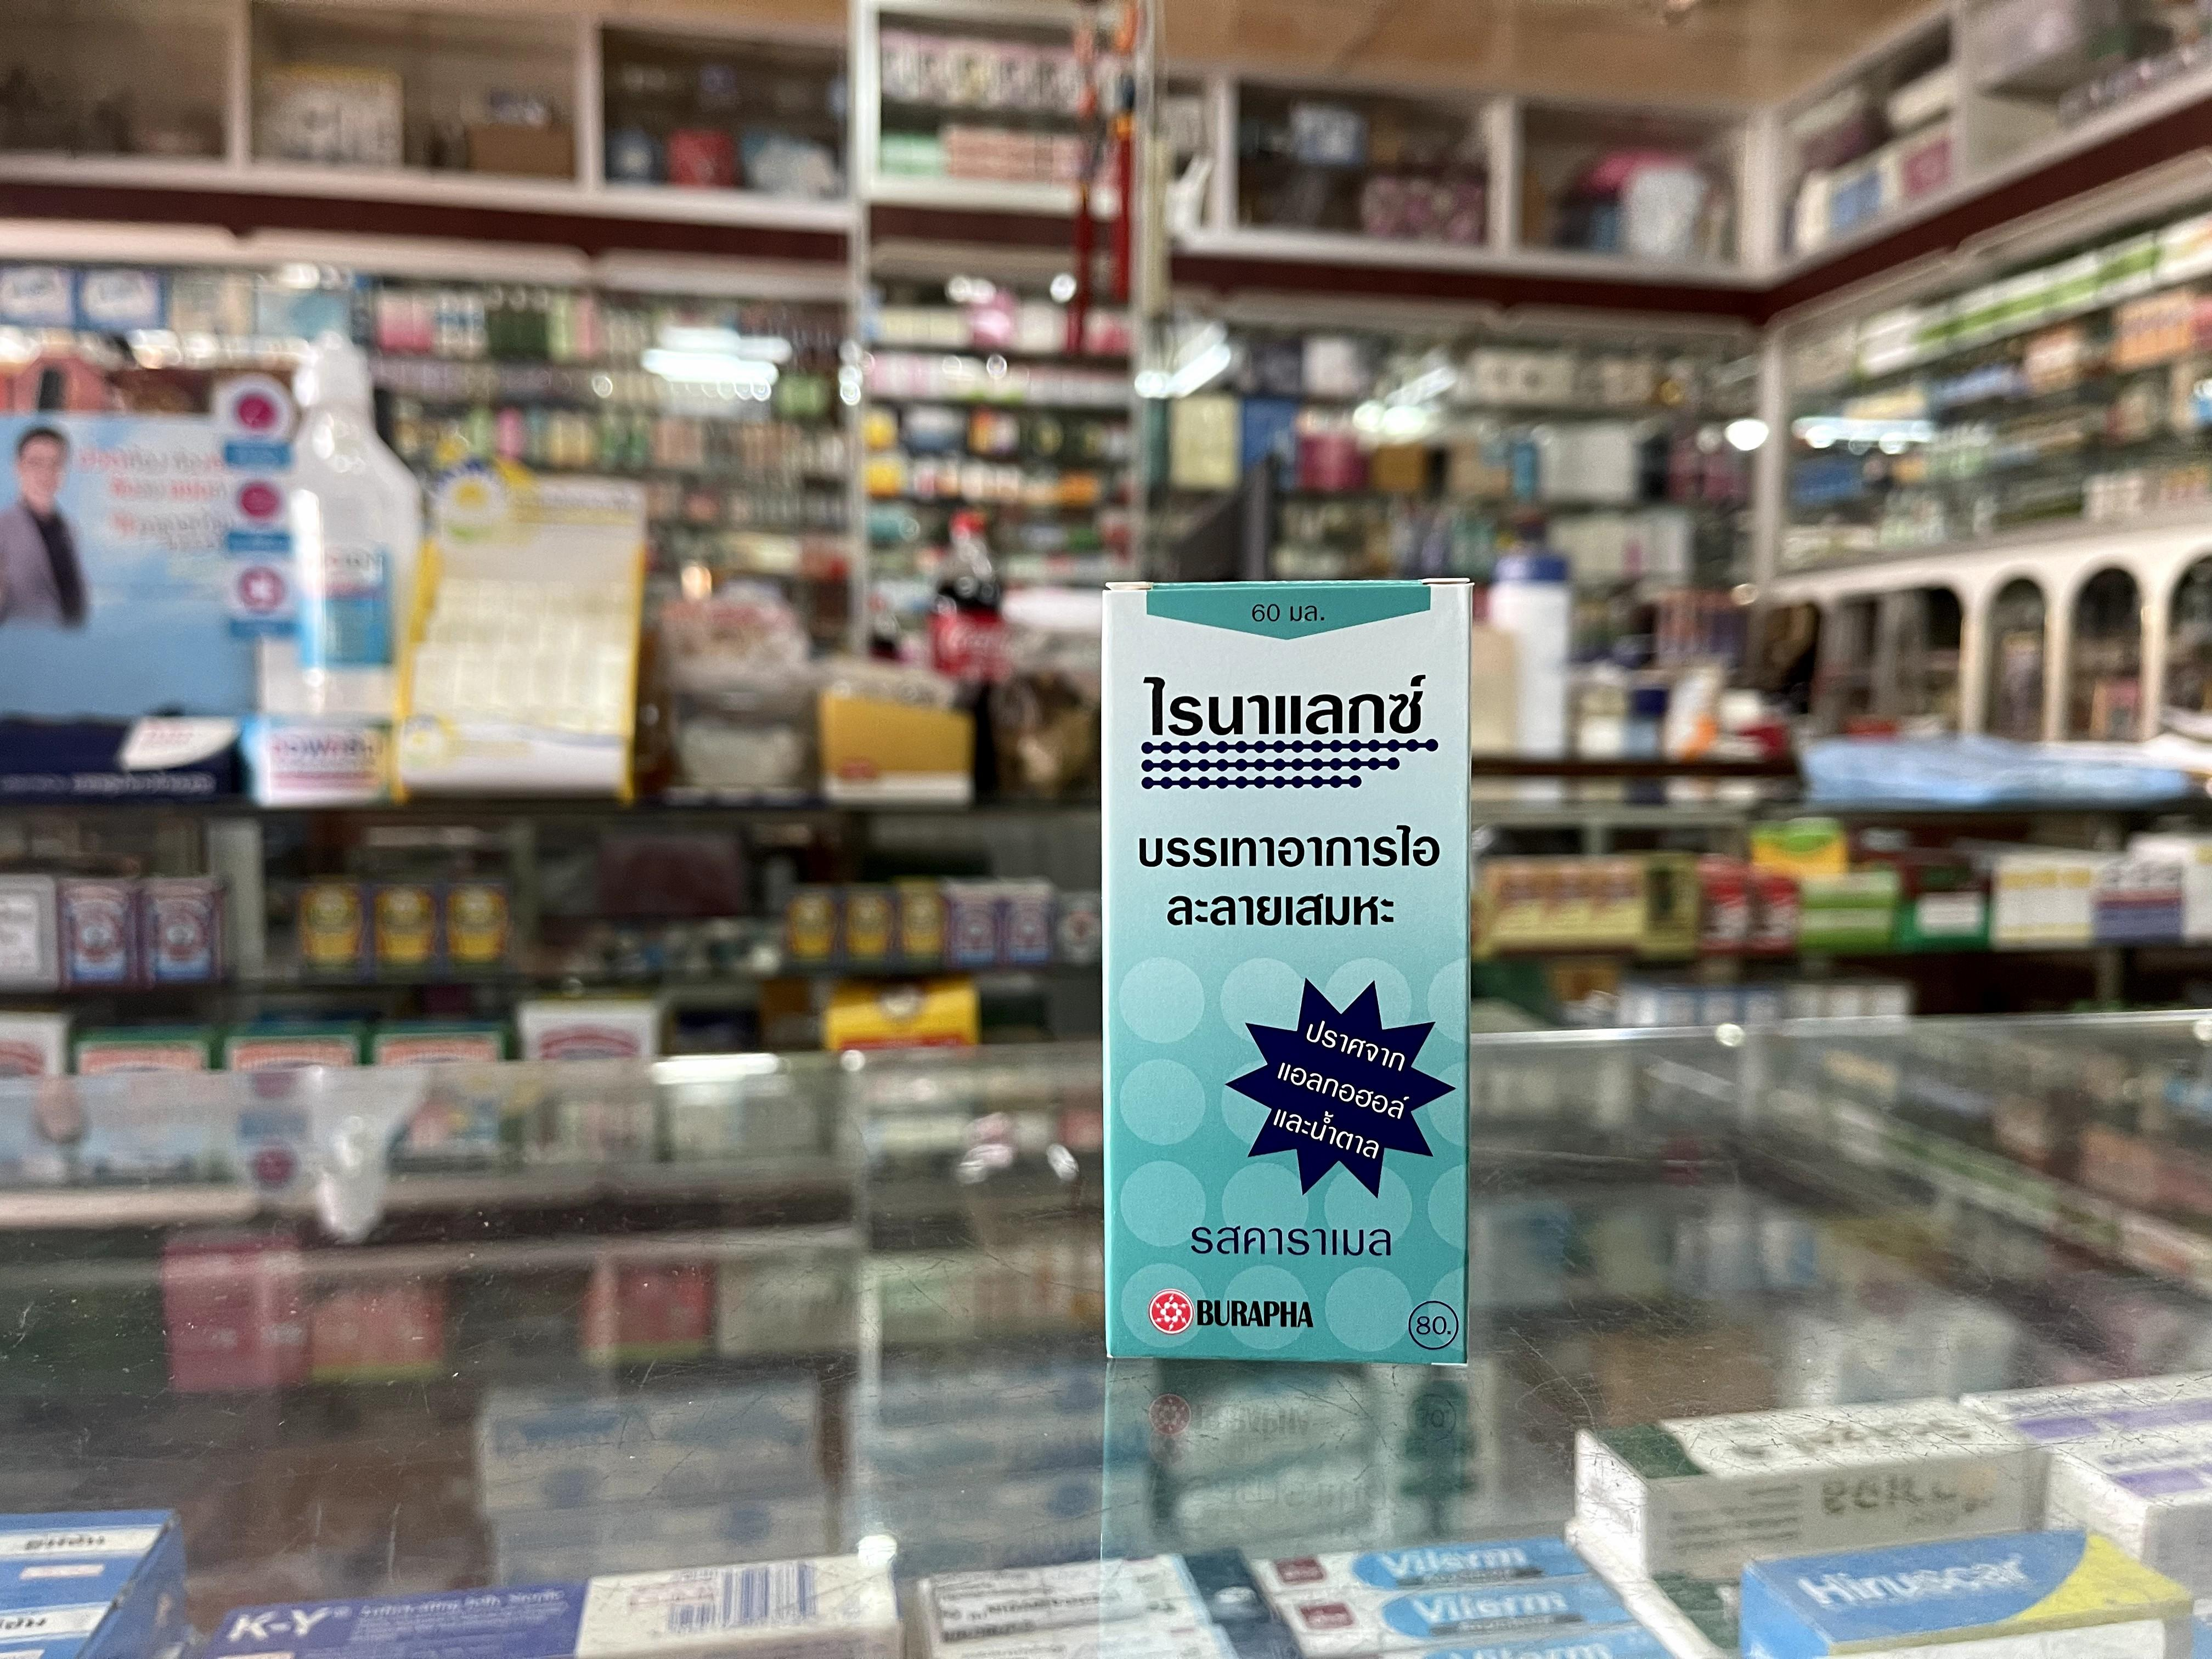Rhinalax: (1103, 582, 1474, 1366)
